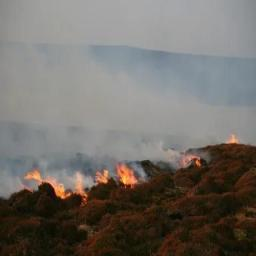Low smoke: (0, 0, 179, 165)
Small fire: (27, 165, 144, 199), (181, 153, 205, 170), (224, 133, 241, 147)
